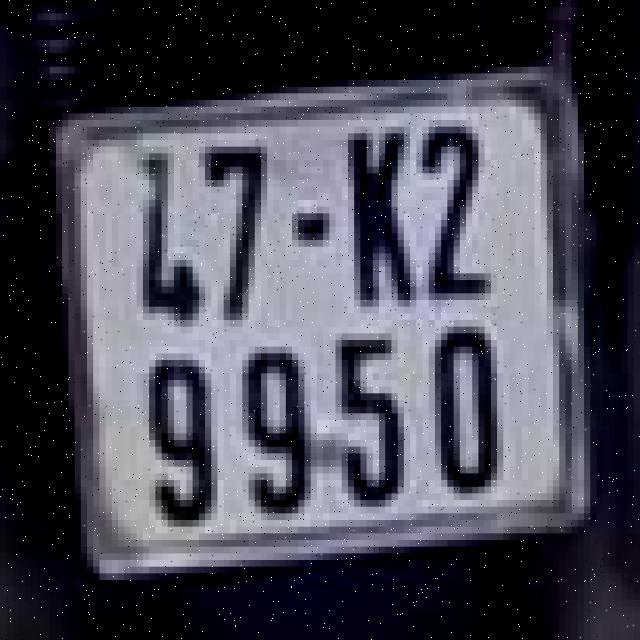0: (422, 306, 522, 506)
2: (414, 117, 506, 303)
4: (115, 130, 202, 330)
5: (326, 330, 413, 510)
7: (196, 126, 289, 326)
9: (125, 343, 218, 537), (230, 337, 304, 530)
K: (339, 120, 413, 313)
